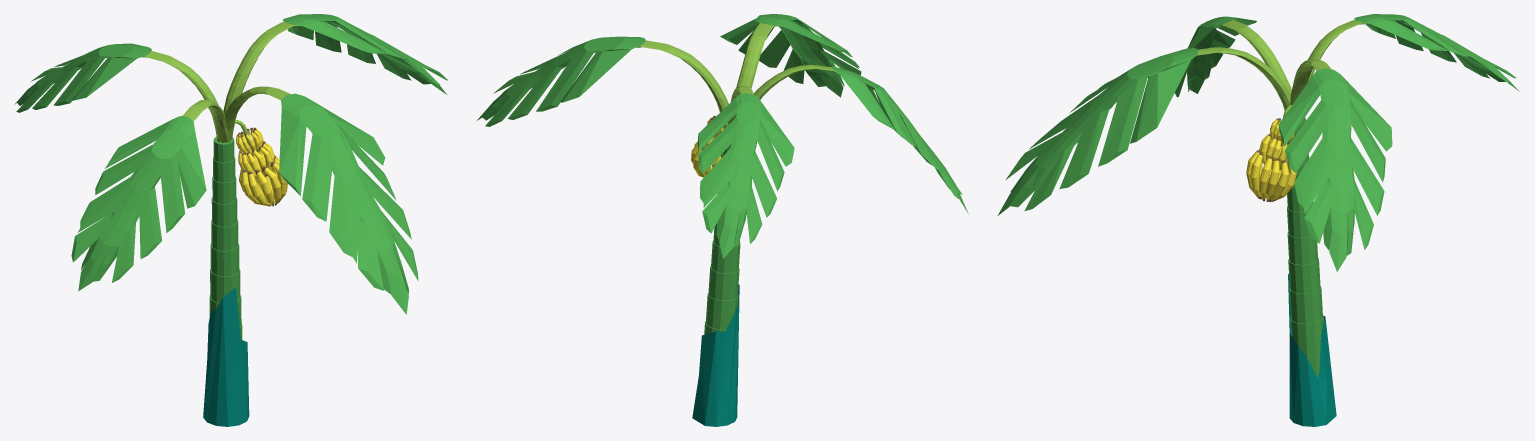
The picture shows the model from 3 angles, left to right: view 1: azimuth 30°, elevation 25°; view 2: azimuth 150°, elevation 25°; view 3: azimuth 270°, elevation 25°; orthographic projection. The views are drawn at different scales.
Visible parts, largest first — view 1: default; view 2: default; view 3: default.
Boxes of the visible parts, box(x1,y1,x2,y2) form: default: box(14, 14, 447, 426); default: box(477, 14, 968, 426); default: box(997, 14, 1519, 426).
Size of the model in its own units: 4.67 by 3.81 by 4.74.
